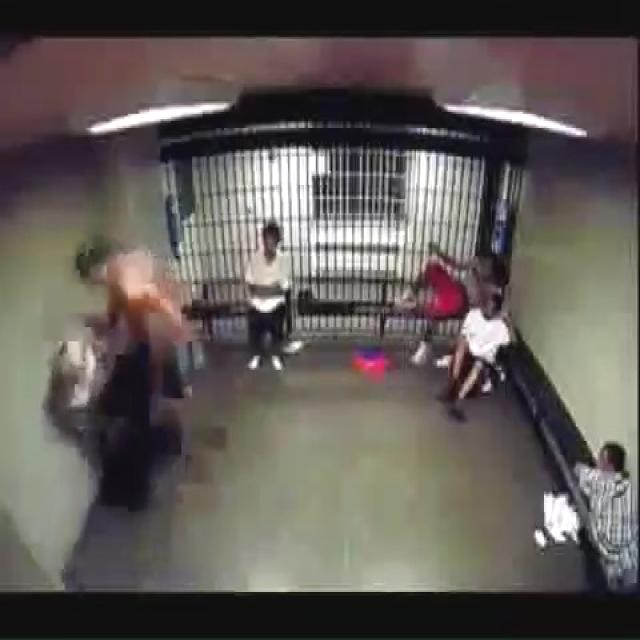fight: (19, 186, 218, 538)
